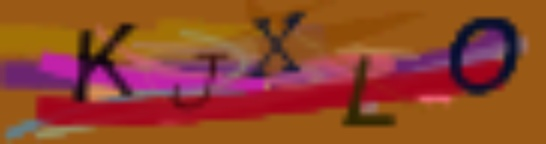J: (166, 52, 233, 114)
K: (70, 20, 141, 104)
L: (338, 52, 399, 131)
O: (446, 14, 524, 98)
X: (242, 8, 310, 82)
